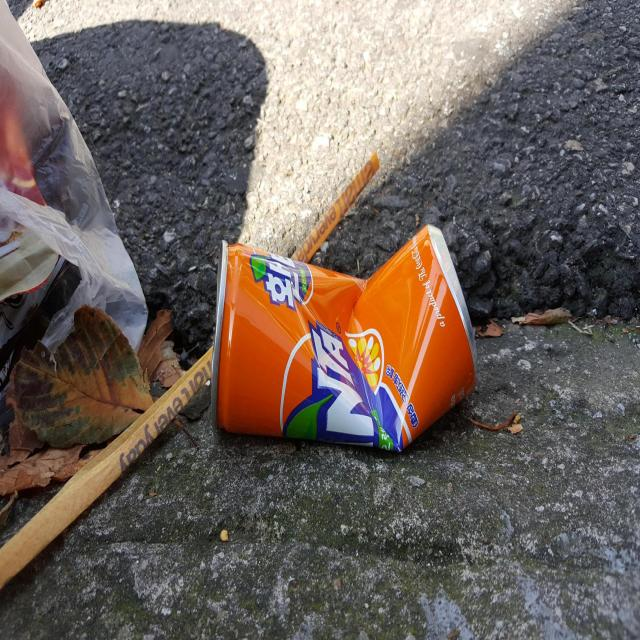can: (211, 224, 478, 451)
